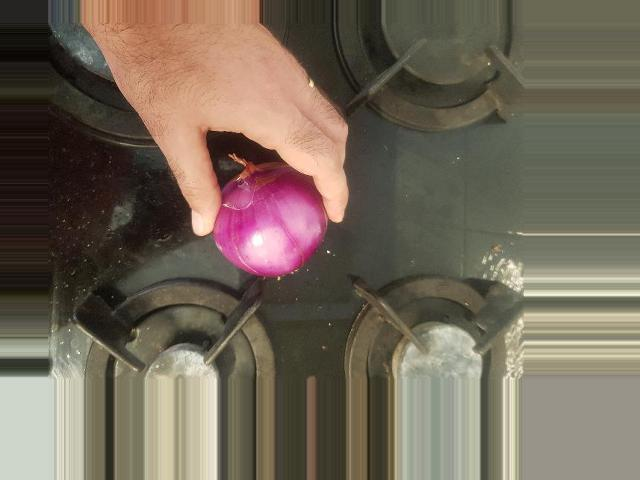onion: (303, 217, 423, 338)
